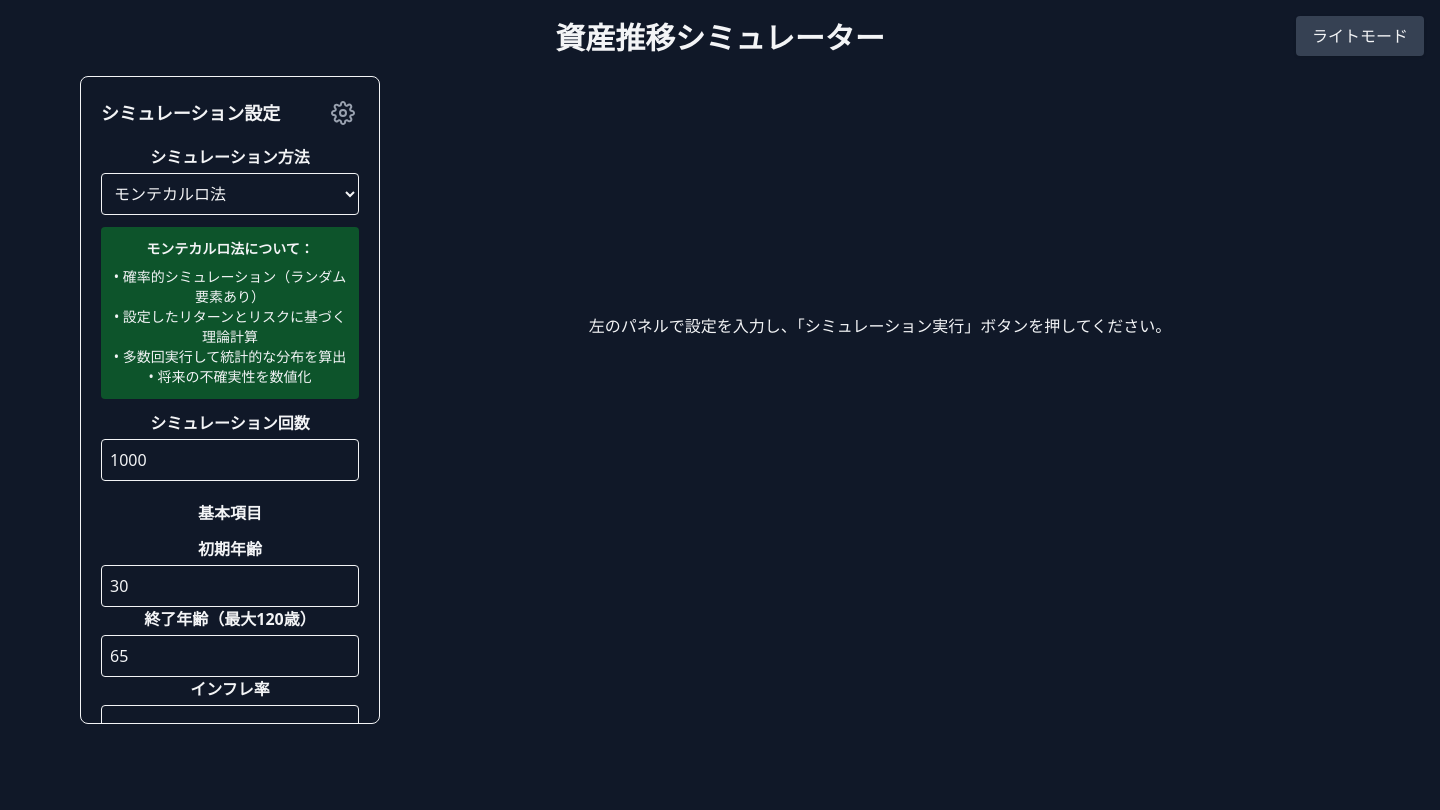
Test case: App Component › toggles dark mode when button is clicked
# Click to toggle
Click the button with aria-label "ダークモード切替": click(1360, 36) [1296,16,1424,56]
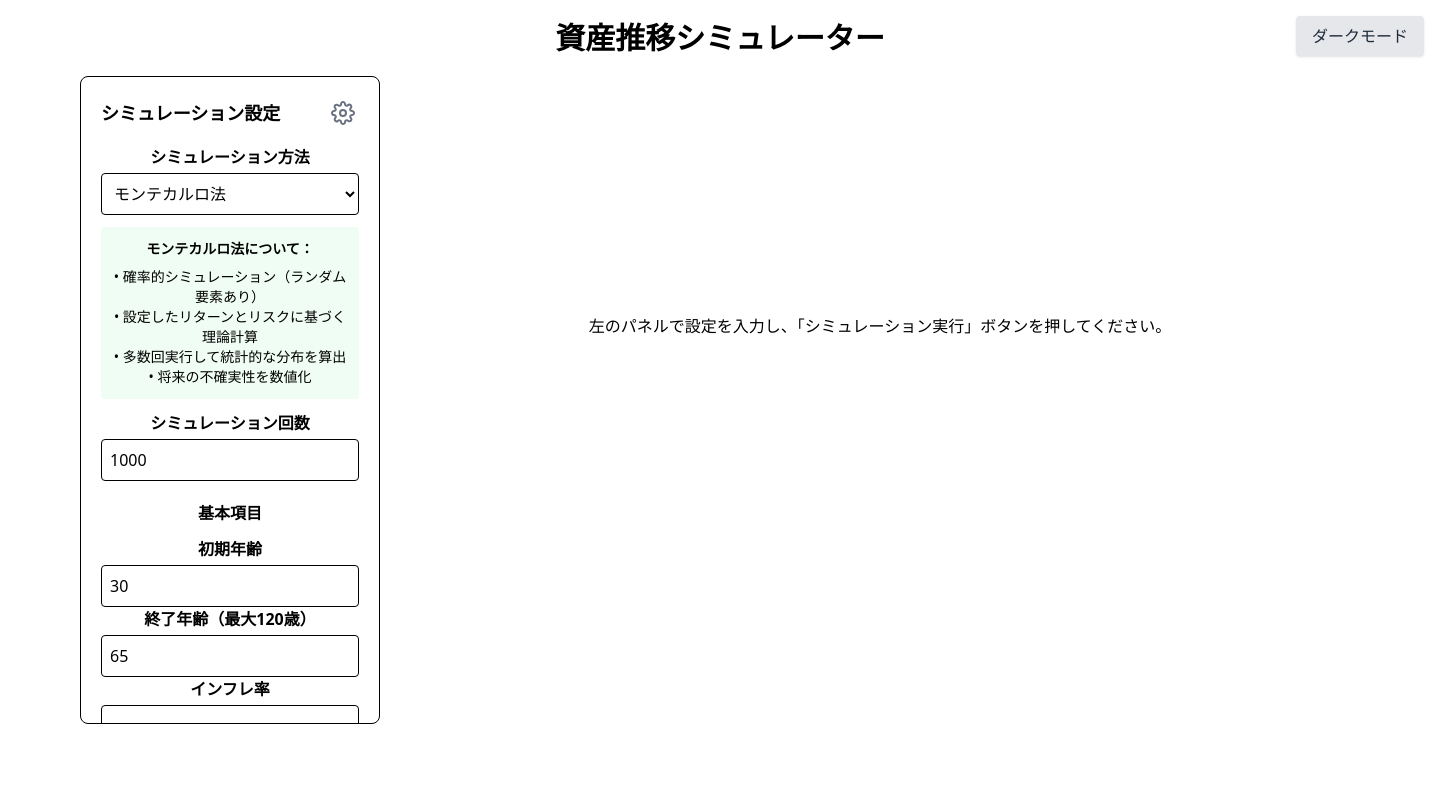
Expected: the button with aria-label "ダークモード切替" reads "ダークモード"
# Click again to toggle back
Click the button with aria-label "ダークモード切替": click(1360, 36) [1296,16,1424,56]
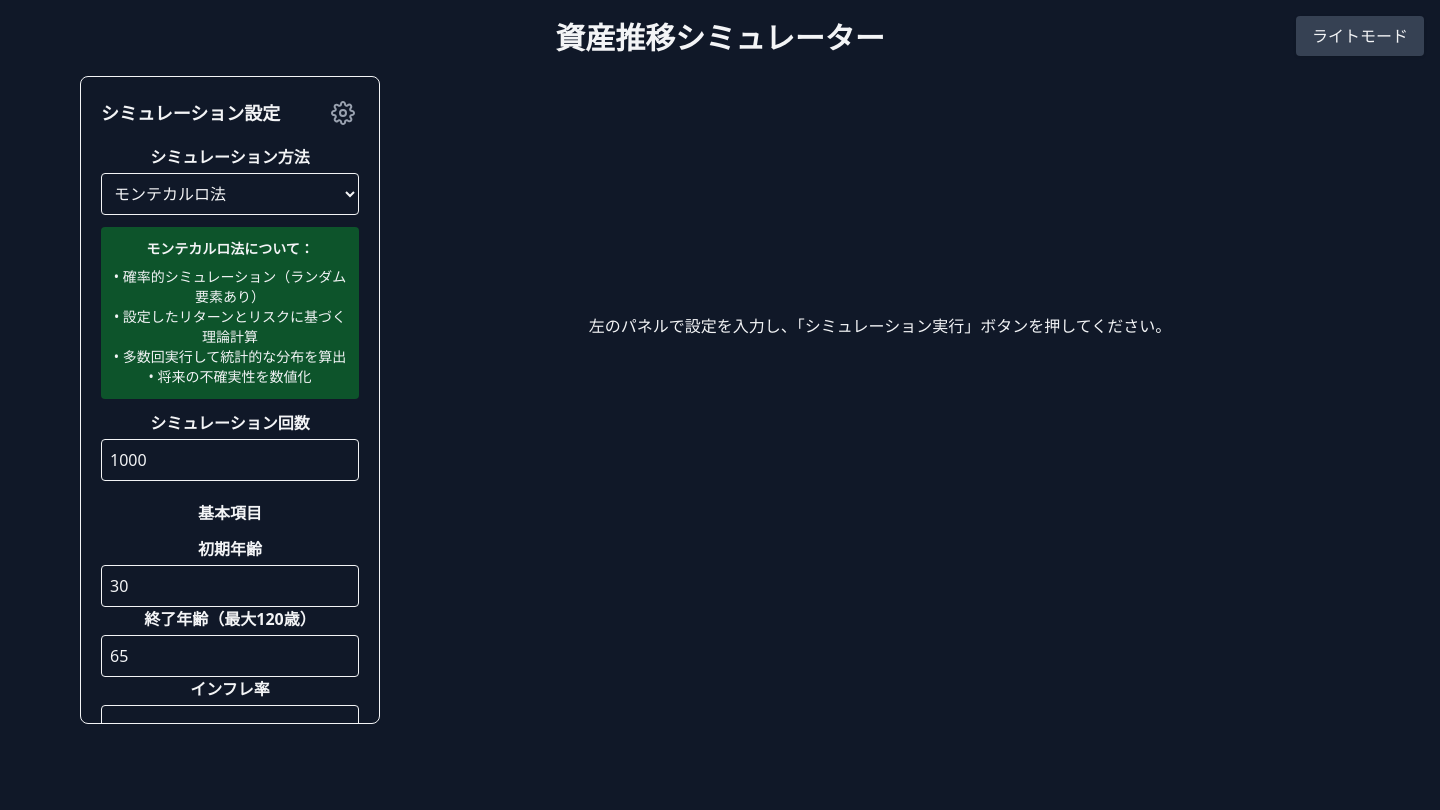
Expected: the button with aria-label "ダークモード切替" reads "ライトモード", [1296,16,1424,56]
